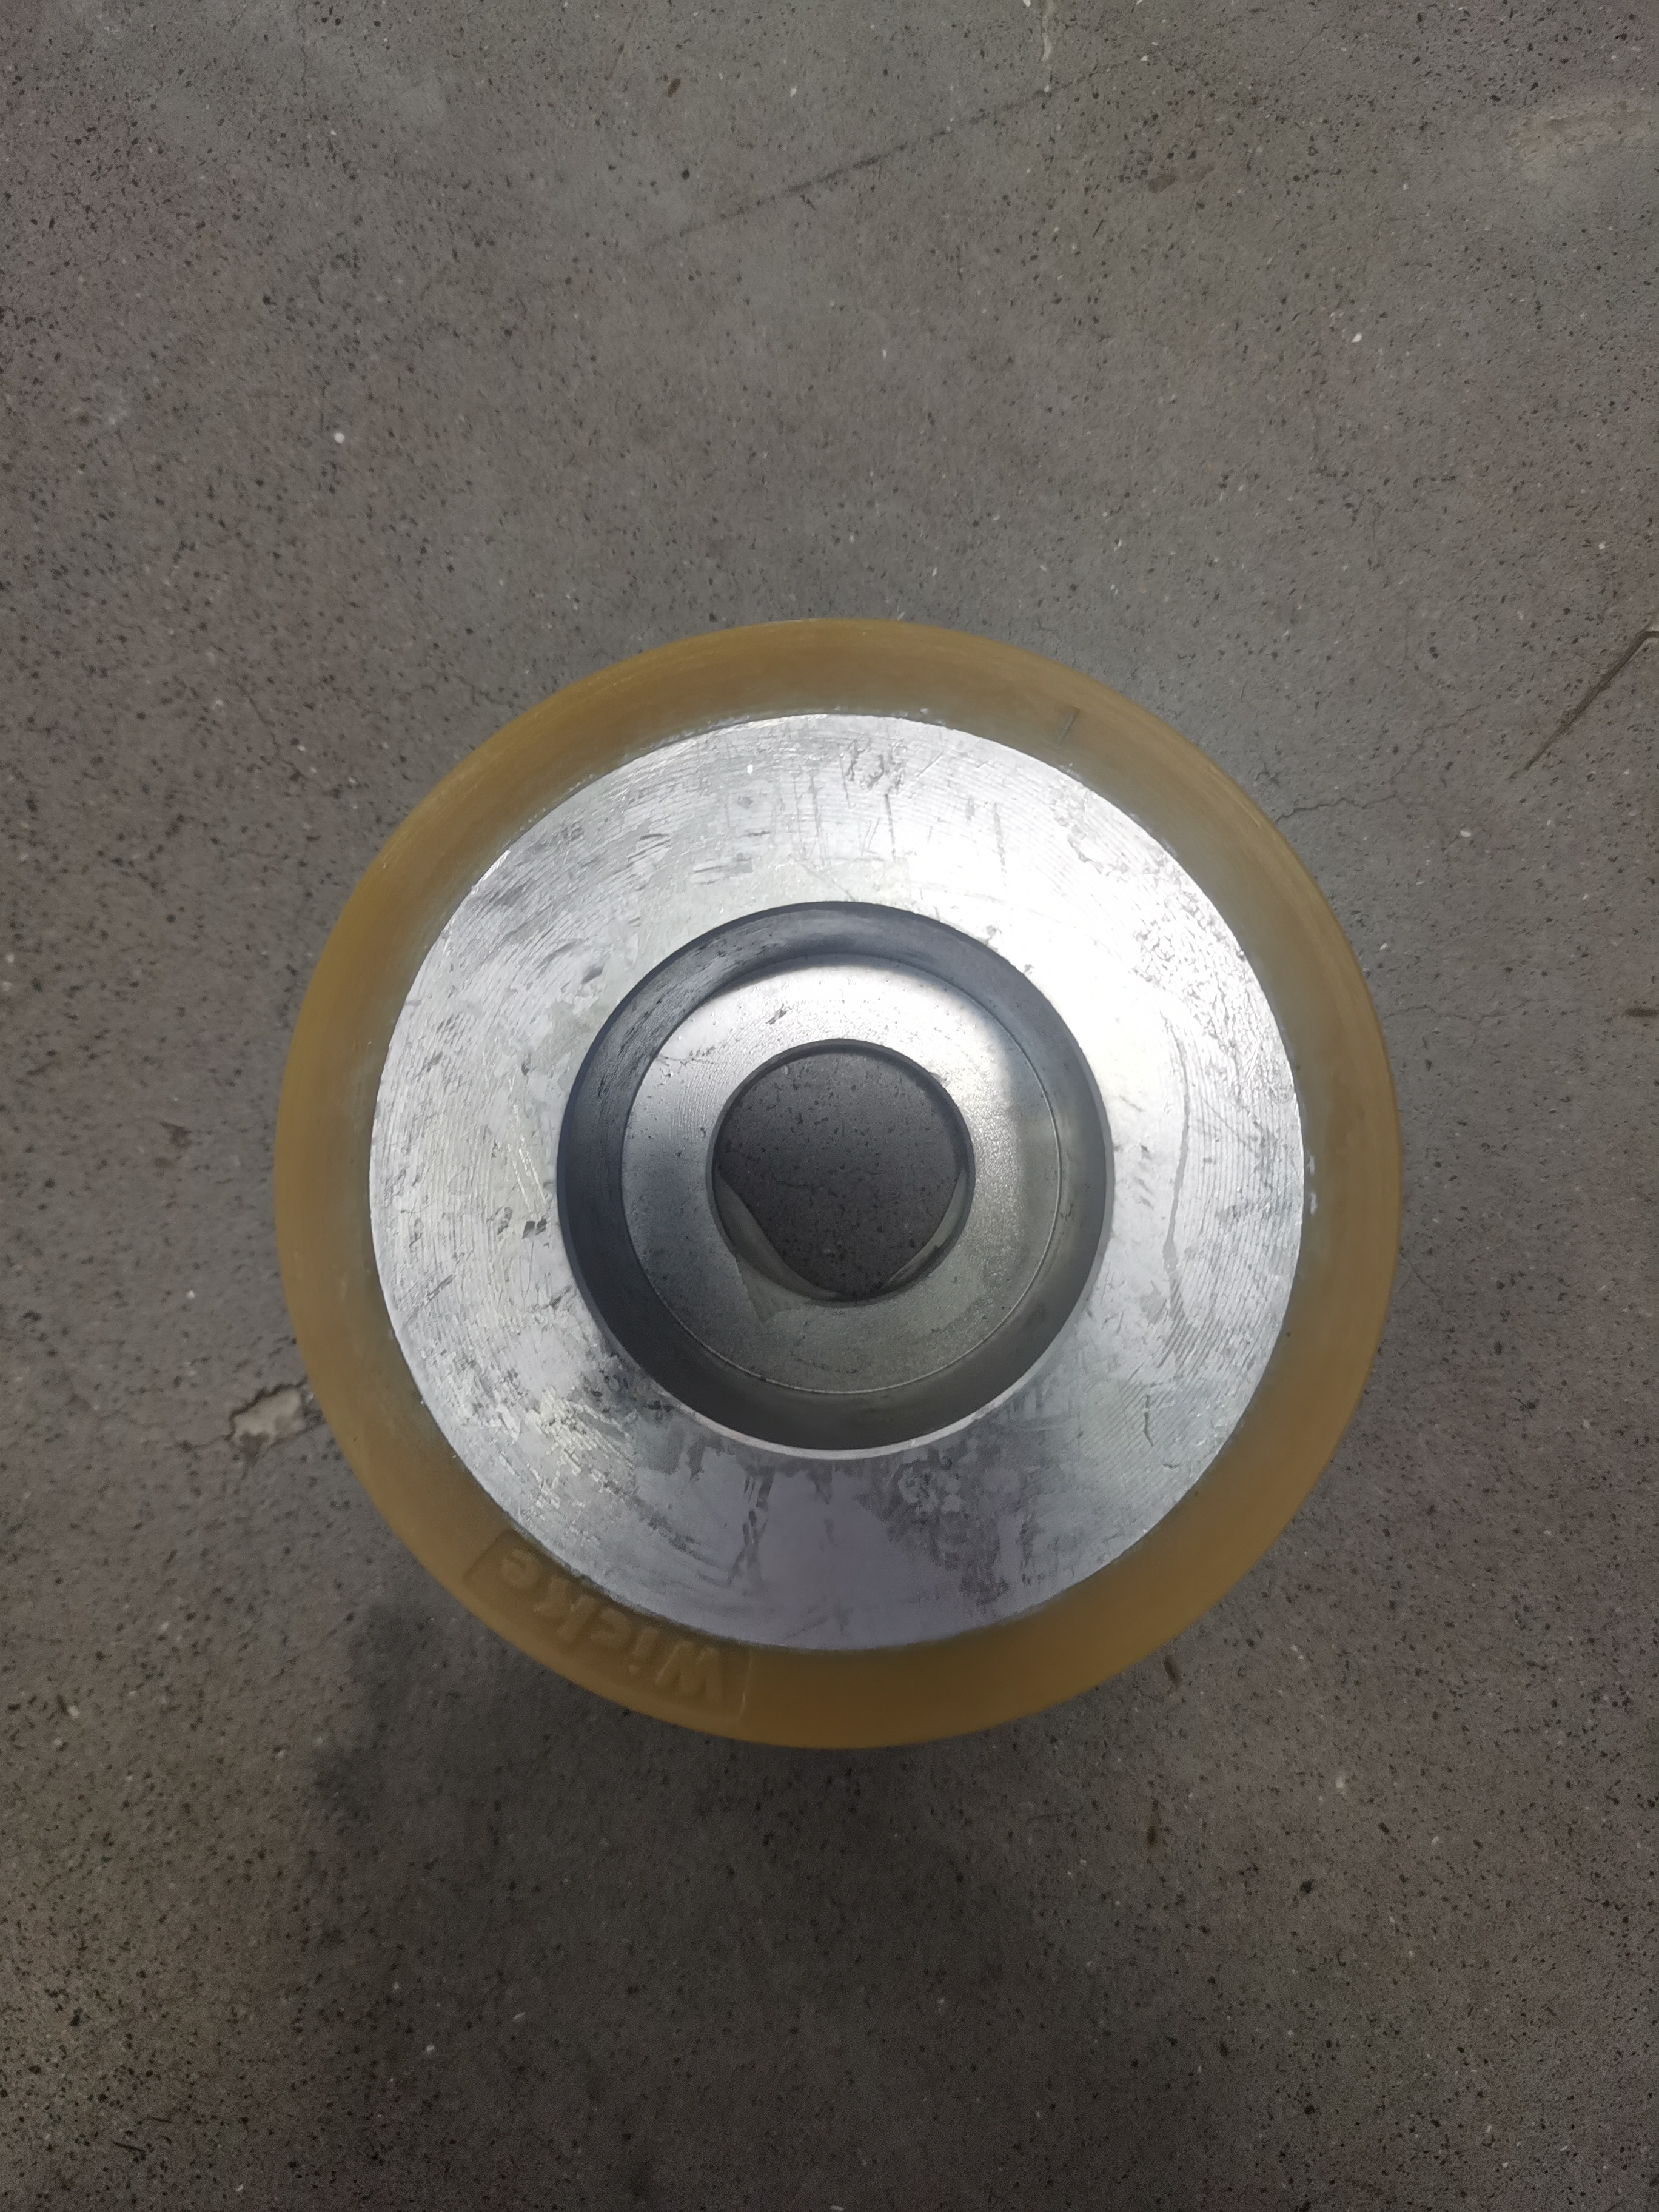good_wheel: (235, 597, 1443, 1796)
